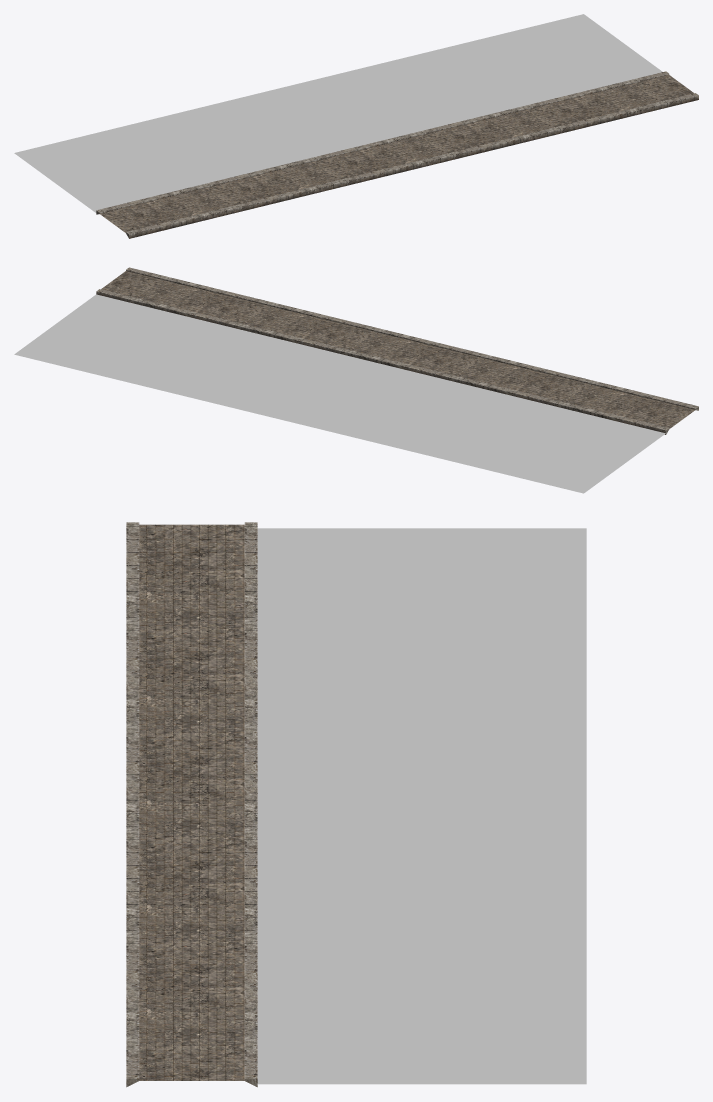
The model's file is Road1.fbx.
The picture shows the model from 3 angles, top to bottom: view 1: azimuth 30°, elevation 25°; view 2: azimuth 150°, elevation 25°; view 3: azimuth 270°, elevation 25°; orthographic projection. The views are drawn at different scales.
Parts seen in each view (by area): view 1: obj_polySurface4; view 2: obj_polySurface4; view 3: obj_polySurface4.
Part boxes in pixels (x1,y1,x2,y2): obj_polySurface4: [14, 14, 698, 238]; obj_polySurface4: [14, 267, 698, 493]; obj_polySurface4: [126, 522, 586, 1087].
Size of the model in its own units: 20 by 0.1527 by 7.
